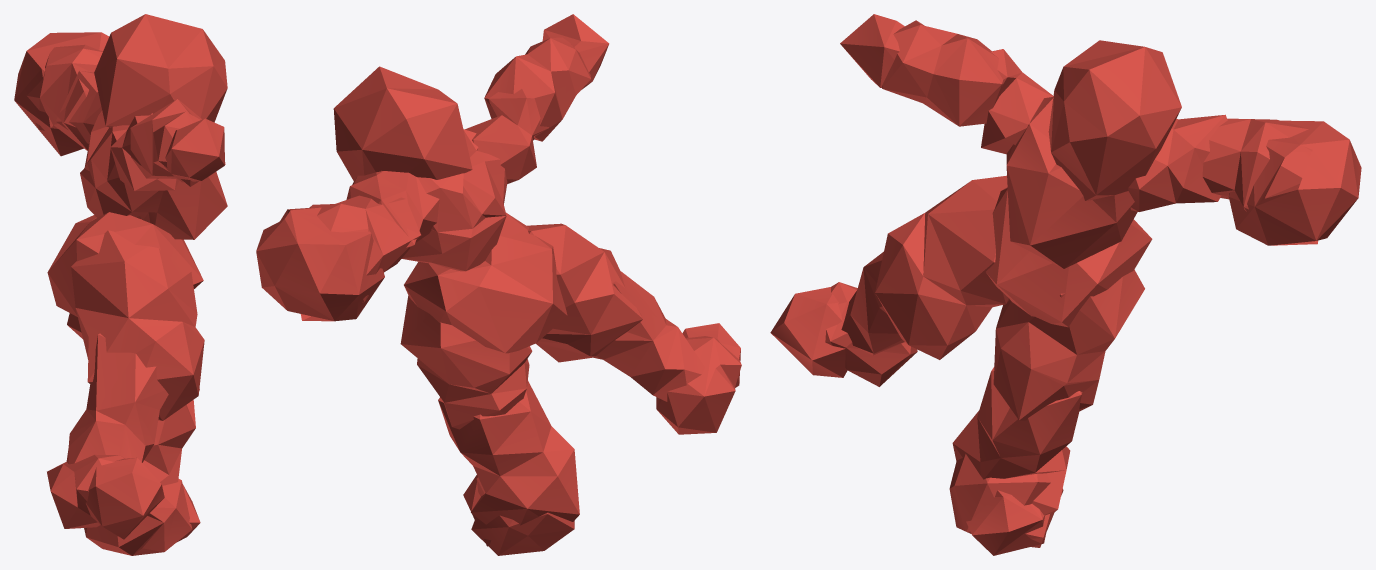
File: dance_frames0341.obj
3 views of the same model, side by side, from view 1: azimuth 30°, elevation 25°; view 2: azimuth 150°, elevation 25°; view 3: azimuth 270°, elevation 25° (orthographic). The views are drawn at different scales.
Visible parts, largest first — view 1: Beta_Surface; view 2: Beta_Surface; view 3: Beta_Surface.
Boxes of the visible parts, x1,y1,x2,y2 form: Beta_Surface: (14,14,227,555); Beta_Surface: (256,14,741,555); Beta_Surface: (770,14,1361,555).
Bounding box in the file's own units: 1.22 × 1.98 × 1.98.
